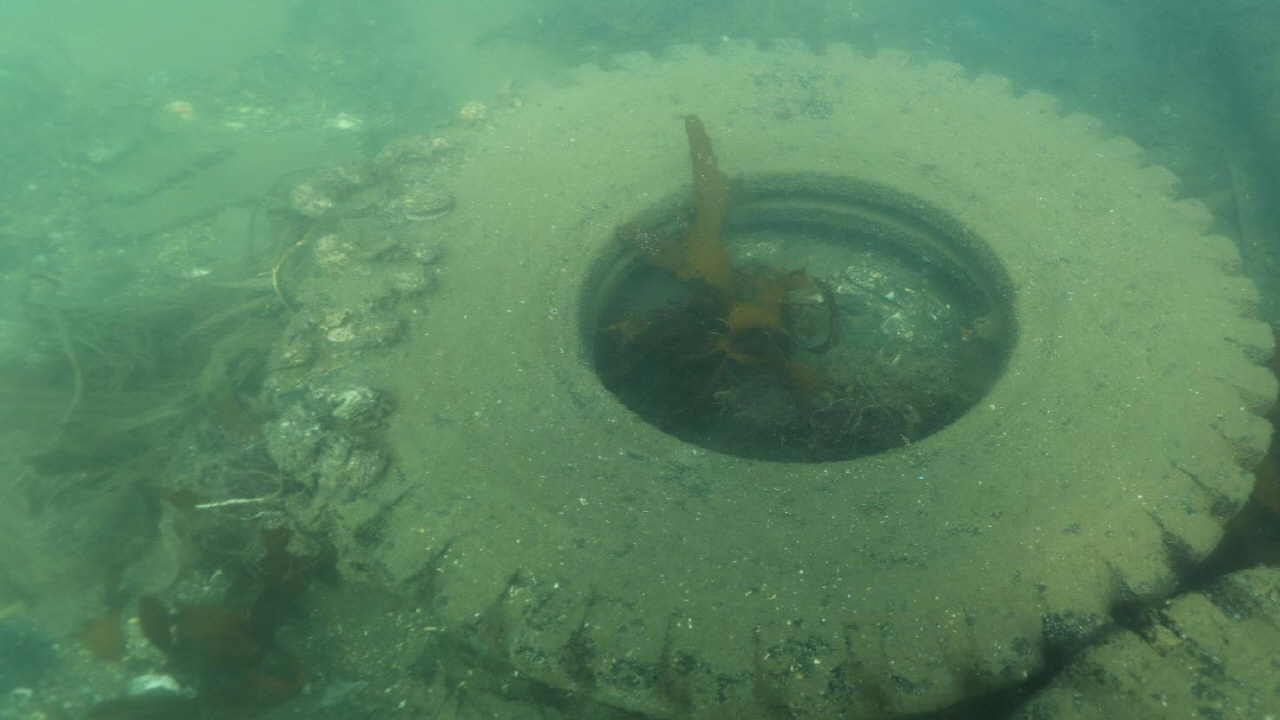tire: (353, 35, 1280, 720)
